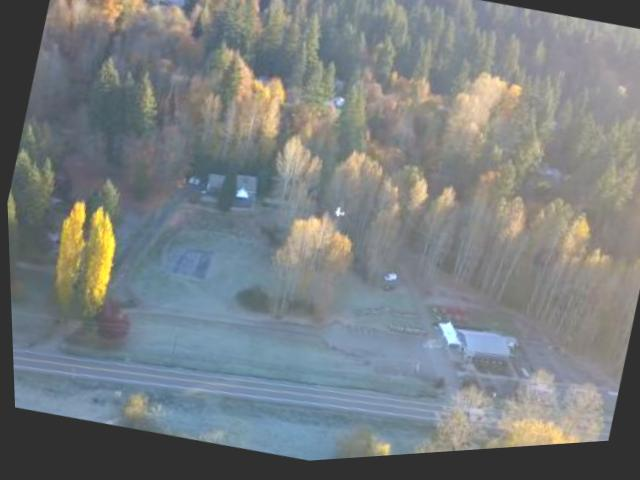uav: (320, 200, 355, 231)
